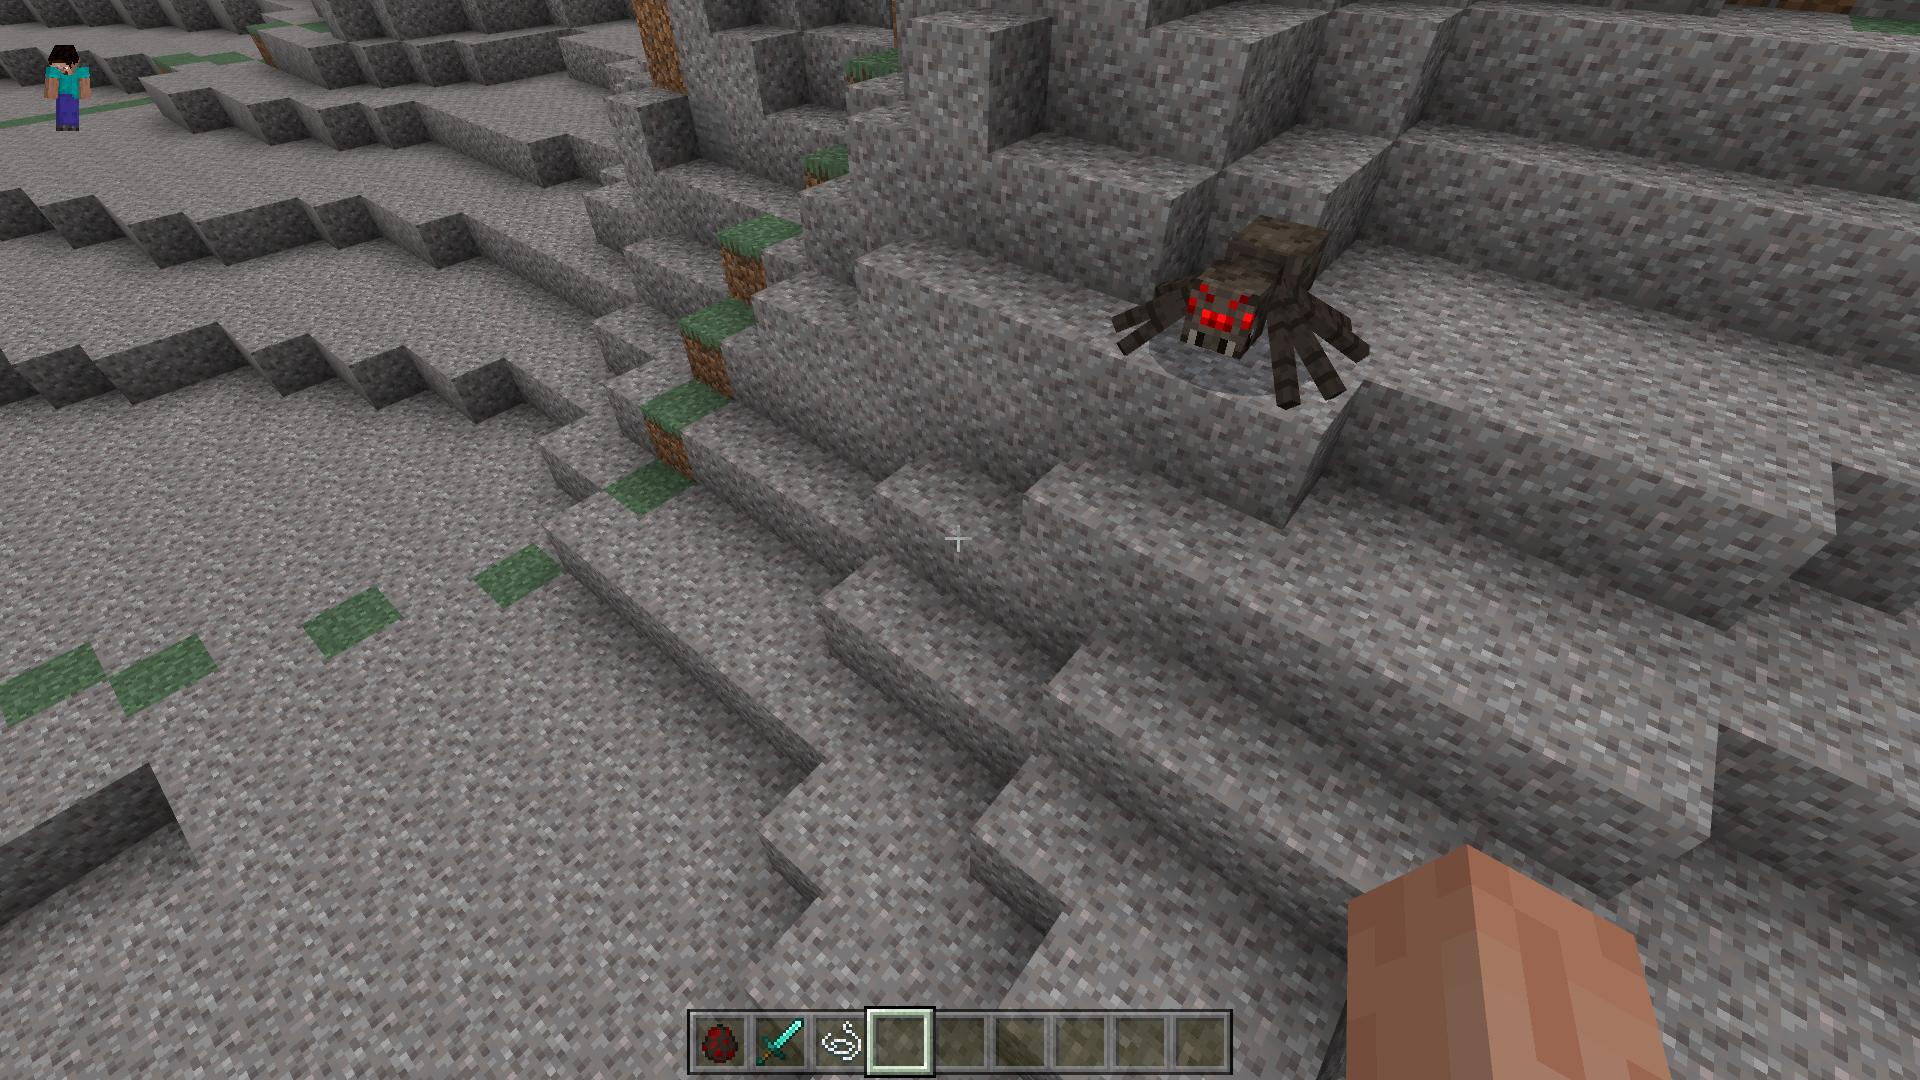spider: (1112, 219, 1371, 409)
